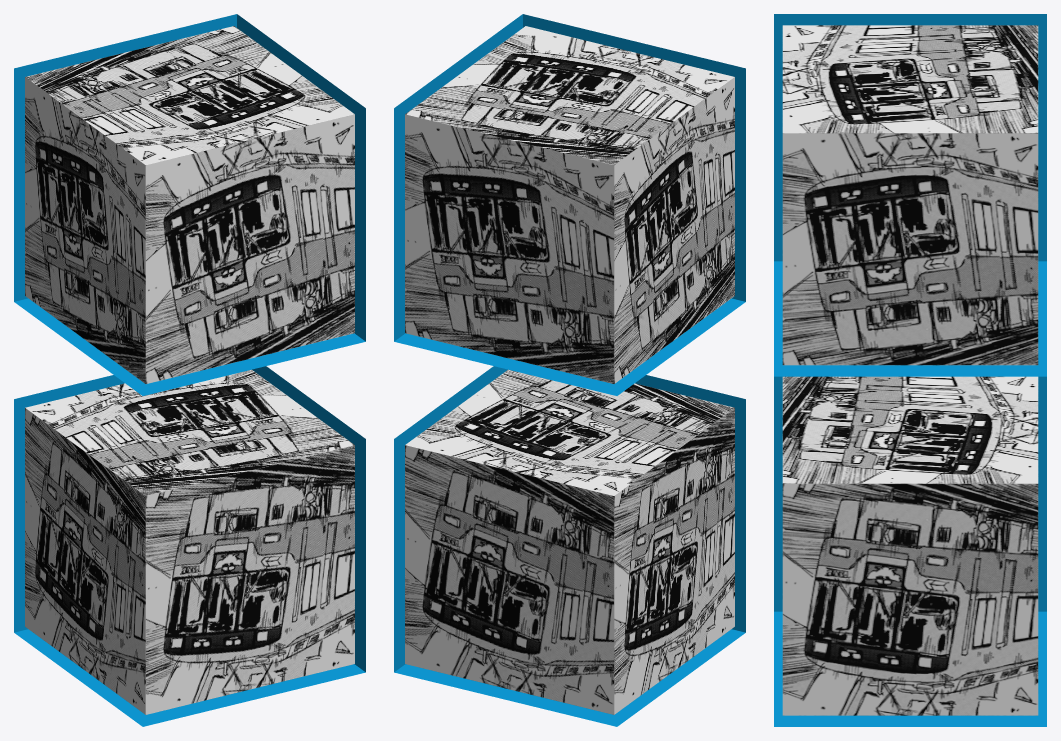
The model's file is ICON_8000.glb.
The picture shows the model from 3 angles, left to right: view 1: azimuth 30°, elevation 25°; view 2: azimuth 150°, elevation 25°; view 3: azimuth 270°, elevation 25°; orthographic projection. The views are drawn at different scales.
Visible parts, largest first — view 1: ICON8000, obj2, obj3, obj12; view 2: ICON8000, obj2, obj3, obj12; view 3: ICON8000, obj2, obj3, obj12.
Part boxes in pixels (bbox=[...]): ICON8000: bbox=[25, 26, 354, 383]; obj2: bbox=[25, 369, 354, 714]; obj3: bbox=[14, 14, 365, 395]; obj12: bbox=[14, 366, 365, 726]; ICON8000: bbox=[405, 26, 734, 383]; obj2: bbox=[405, 369, 734, 714]; obj3: bbox=[394, 14, 745, 395]; obj12: bbox=[394, 366, 745, 726]; ICON8000: bbox=[782, 25, 1038, 365]; obj2: bbox=[782, 376, 1038, 715]; obj3: bbox=[774, 14, 1046, 376]; obj12: bbox=[774, 376, 1046, 726].
Bounding box in the file's own units: 2.4 × 5.8 × 2.4.
10 materials, 10 textured.
